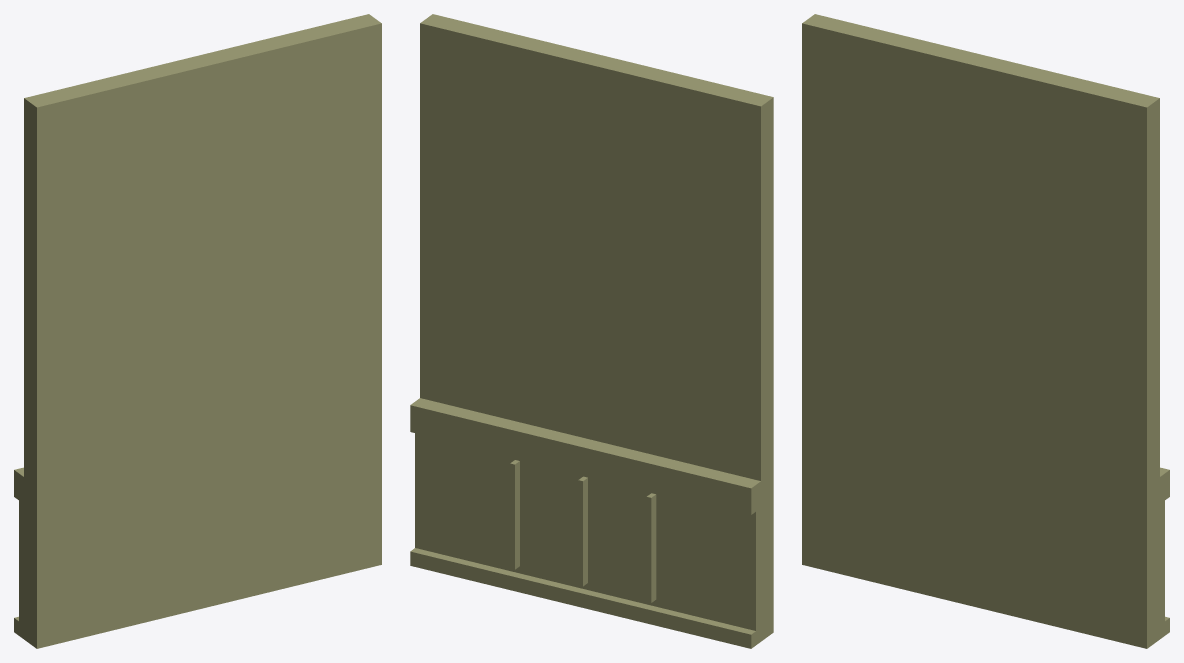
Rendered from gn_plinth_2m.glb.
3 renders of one model, left to right at view 1: azimuth 30°, elevation 25°; view 2: azimuth 150°, elevation 25°; view 3: azimuth 330°, elevation 25°, orthographic.
Visible parts, largest first — view 1: GnPlinth; view 2: GnPlinth; view 3: GnPlinth.
Part boxes in pixels (x1,y1,x2,y2): GnPlinth: (14,14,381,648); GnPlinth: (410,14,773,648); GnPlinth: (802,14,1169,648).
Bounding box in the file's own units: 2 × 3 × 0.229.
